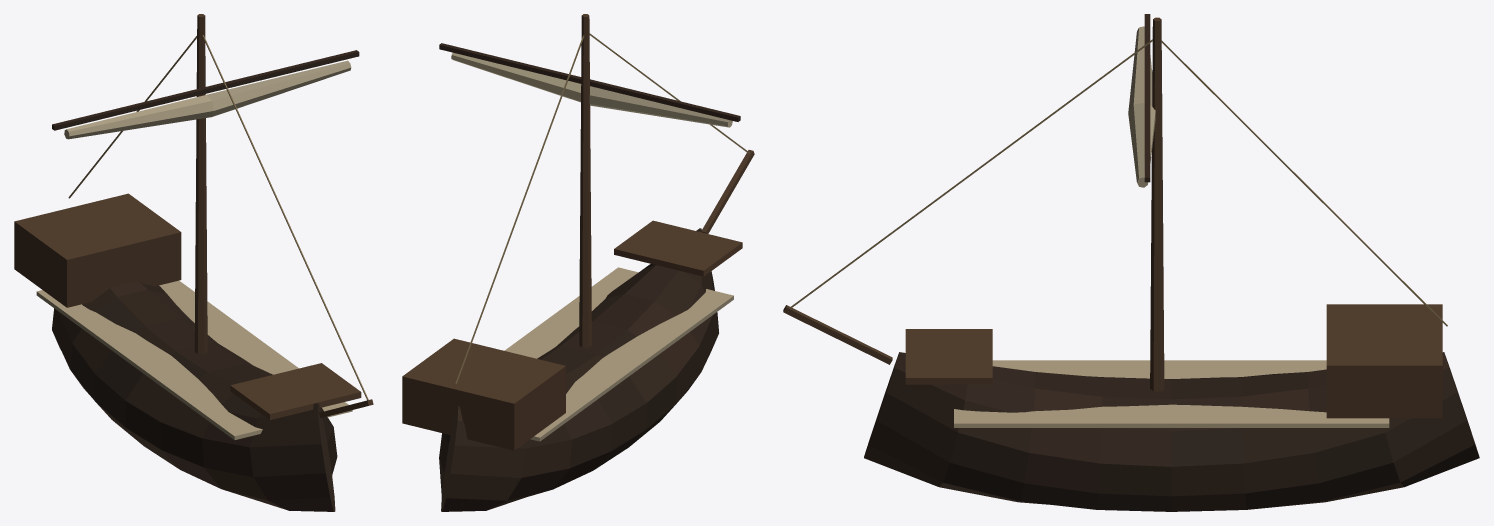
The model's file is harbour_ship.glb.
The picture shows the model from 3 angles, left to right: view 1: azimuth 30°, elevation 25°; view 2: azimuth 150°, elevation 25°; view 3: azimuth 270°, elevation 25°; orthographic projection. The views are drawn at different scales.
Visible parts, largest first — view 1: harbour_ship; view 2: harbour_ship; view 3: harbour_ship.
Part boxes in pixels (<box>): harbour_ship: <box>14,14,373,511</box>; harbour_ship: <box>402,14,754,511</box>; harbour_ship: <box>783,14,1479,511</box>.
Bounding box in the file's own units: 8 × 10.96 × 14.4.
1 material, 1 textured.
